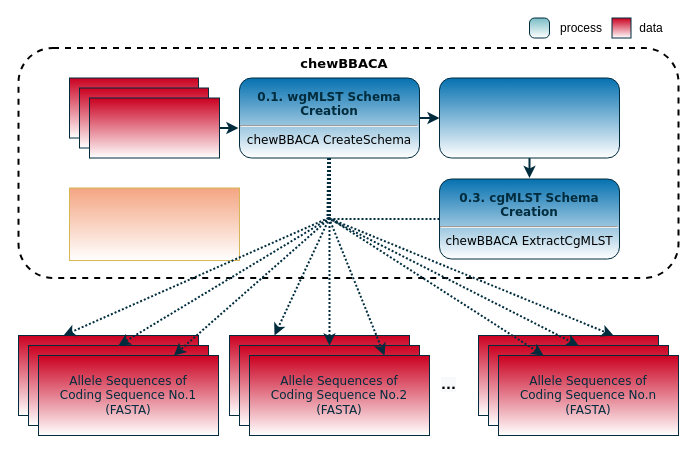
This 696x453 diagram has some shape labels left out. The shapes that lost their labels are listed below. From the top down, each one's centre as x and y in pixels, then its label:
At (154,127): "Draft / Complete Genome Assemblies of Species (FASTA)".
At (529,117): "0.2. Allele Calling chewBBACA AlleleCall".
At (154,223): "STEP 0 Creation of Data-Specific cgMLST Schema".
